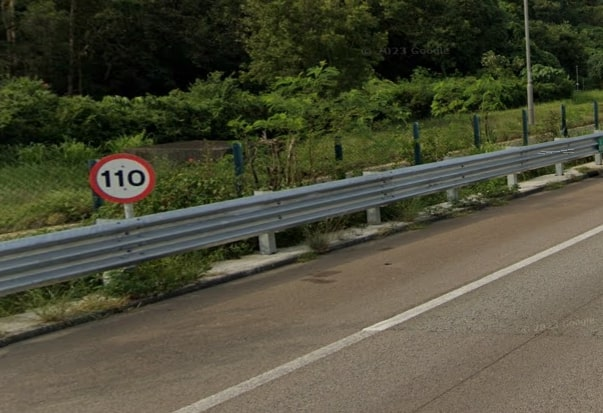Speed Limit: (84, 151, 160, 205)
